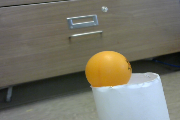PingPongBall: (86, 51, 131, 90)
